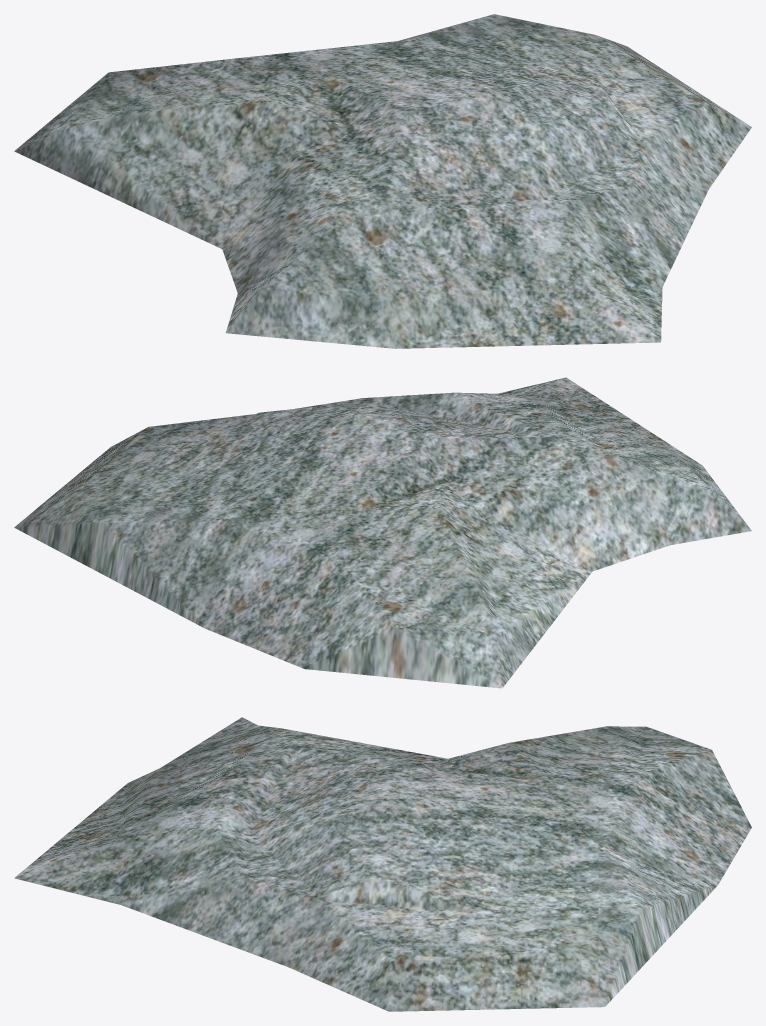
File: rock_graniteslab_medium_a1_l0.fbx
The picture shows the model from 3 angles, top to bottom: view 1: azimuth 30°, elevation 25°; view 2: azimuth 150°, elevation 25°; view 3: azimuth 270°, elevation 25°; orthographic projection. The views are drawn at different scales.
Visible parts, largest first — view 1: mesh_node; view 2: mesh_node; view 3: mesh_node.
Boxes of the visible parts, left/top/right/bottom form: mesh_node: left=14, top=14, right=751, bottom=348; mesh_node: left=14, top=377, right=751, bottom=688; mesh_node: left=14, top=717, right=751, bottom=1011.
Bounding box in the file's own units: 1.54 × 0.2375 × 1.71.
